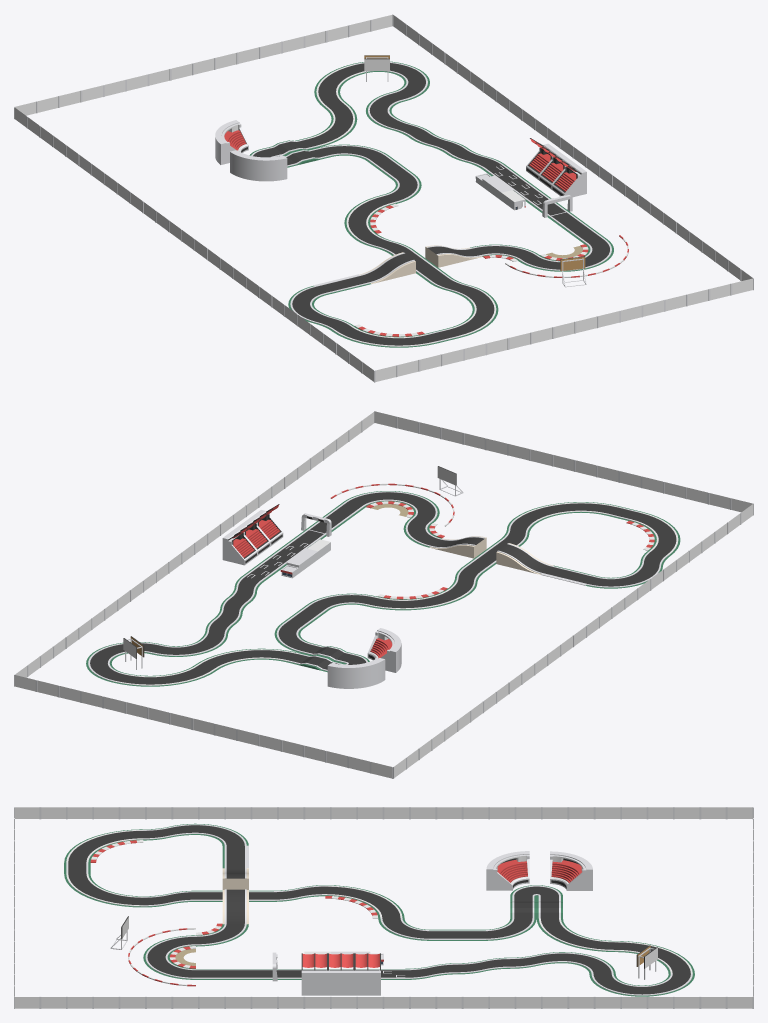
File: racetrack.glb
3 renders of one model, top to bottom at view 1: azimuth 30°, elevation 25°; view 2: azimuth 150°, elevation 25°; view 3: azimuth 270°, elevation 25°, orthographic. The views are drawn at different scales.
Visible parts, largest first — view 1: mergedBlocks(Clone); view 2: mergedBlocks(Clone); view 3: mergedBlocks(Clone).
Part boxes in pixels (x1,y1,x2,y2): mergedBlocks(Clone): (14, 14, 753, 382); mergedBlocks(Clone): (14, 411, 753, 778); mergedBlocks(Clone): (14, 807, 753, 1008).
Bounding box in the file's own units: 170 × 13.85 × 280.
